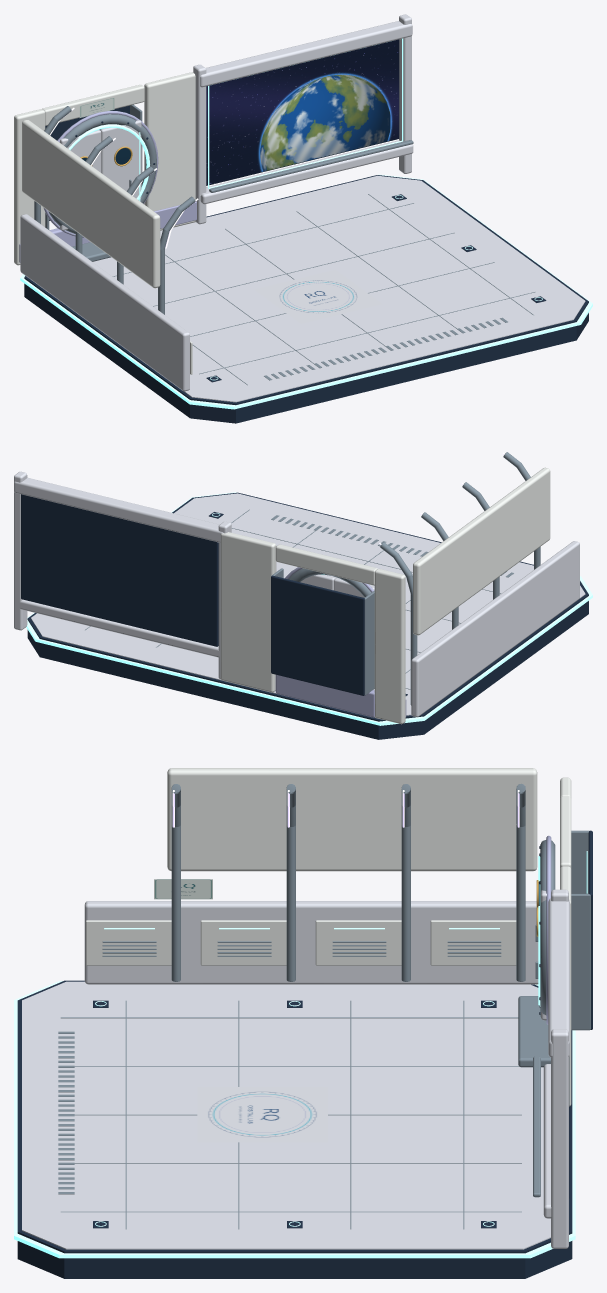
Rendered from astronaut_hq.glb.
3 views of the same model, one above another, from view 1: azimuth 30°, elevation 25°; view 2: azimuth 150°, elevation 25°; view 3: azimuth 270°, elevation 25° (orthographic). The views are drawn at different scales.
Parts seen in each view (by area): view 1: Pearl_Deck, Earth_Observation_View, Structural_Deck, Port_Lower_Wall, Port_Upper_Wall, Aft_Wall_Module_2, Observation_Crown, Floor_Compass, Deck_Luminous_Band, Observation_Sill, Hatch_Leaf_2, Aft_Wall_Module (+7 smaller); view 2: Window_Dark_Recess, Pearl_Deck, Structural_Deck, Port_Lower_Wall, Port_Upper_Wall, Airlock_Inner_Recess, Aft_Wall_Module_2, Aft_Wall_Module, Observation_Crown, Deck_Luminous_Band, Observation_Sill, Airlock_Wall_Footer (+6 smaller); view 3: Pearl_Deck, Port_Upper_Wall, Port_Lower_Wall, Structural_Deck, Floor_Compass, Deck_Luminous_Band, Observation_Pillar_2, Wall_Utility_Panel, Wall_Utility_Panel_2, Wall_Utility_Panel_3, Wall_Utility_Panel_4, Observation_Crown (+16 smaller).
Part boxes in pixels (left/top/right/bottom): Pearl_Deck: left=93, top=175, right=585, bottom=402; Earth_Observation_View: left=206, top=39, right=398, bottom=185; Structural_Deck: left=24, top=175, right=588, bottom=423; Port_Lower_Wall: left=20, top=214, right=189, bottom=391; Port_Upper_Wall: left=22, top=119, right=160, bottom=288; Aft_Wall_Module_2: left=144, top=72, right=195, bottom=230; Observation_Crown: left=200, top=21, right=412, bottom=87; Floor_Compass: left=254, top=269, right=381, bottom=323; Deck_Luminous_Band: left=20, top=174, right=592, bottom=409; Observation_Sill: left=200, top=140, right=413, bottom=204; Hatch_Leaf_2: left=100, top=120, right=141, bottom=200; Aft_Wall_Module: left=14, top=109, right=45, bottom=265; Window_Dark_Recess: left=21, top=494, right=218, bottom=646; Pearl_Deck: left=31, top=493, right=585, bottom=718; Structural_Deck: left=27, top=492, right=588, bottom=739; Port_Lower_Wall: left=411, top=541, right=579, bottom=717; Port_Upper_Wall: left=413, top=467, right=550, bottom=635; Airlock_Inner_Recess: left=271, top=575, right=364, bottom=695; Aft_Wall_Module_2: left=220, top=532, right=276, bottom=692; Aft_Wall_Module: left=374, top=569, right=405, bottom=724; Observation_Crown: left=14, top=477, right=223, bottom=542; Deck_Luminous_Band: left=26, top=492, right=592, bottom=725; Observation_Sill: left=16, top=599, right=219, bottom=657; Airlock_Wall_Footer: left=275, top=674, right=374, bottom=717; Pearl_Deck: left=22, top=981, right=550, bottom=1249; Port_Upper_Wall: left=167, top=768, right=537, bottom=871; Port_Lower_Wall: left=84, top=901, right=538, bottom=984; Structural_Deck: left=17, top=980, right=572, bottom=1278; Floor_Compass: left=197, top=1087, right=327, bottom=1142; Deck_Luminous_Band: left=14, top=981, right=575, bottom=1258; Observation_Pillar_2: left=551, top=1029, right=568, bottom=1248; Wall_Utility_Panel: left=430, top=920, right=516, bottom=965; Wall_Utility_Panel_2: left=315, top=920, right=401, bottom=965; Wall_Utility_Panel_3: left=200, top=920, right=286, bottom=965; Wall_Utility_Panel_4: left=86, top=920, right=171, bottom=965; Observation_Crown: left=548, top=898, right=569, bottom=1057.
Size of the model in its own units: 9.02 by 3.89 by 8.06.
13 materials, 4 textured.
